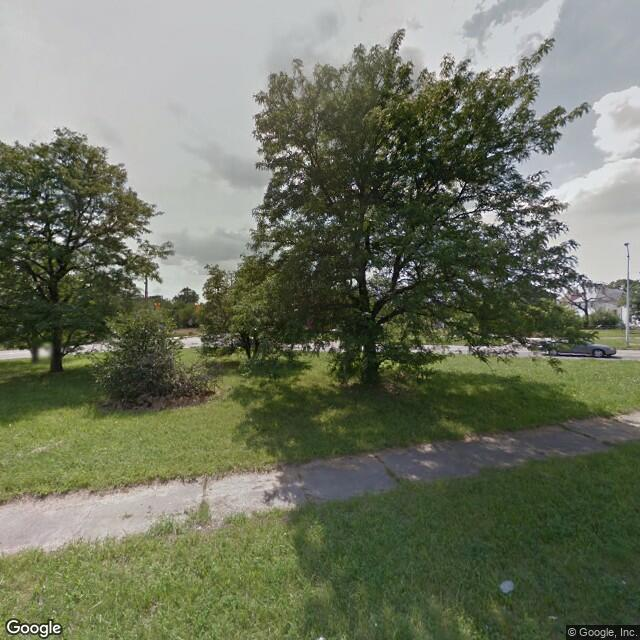litter: (496, 581, 514, 591)
